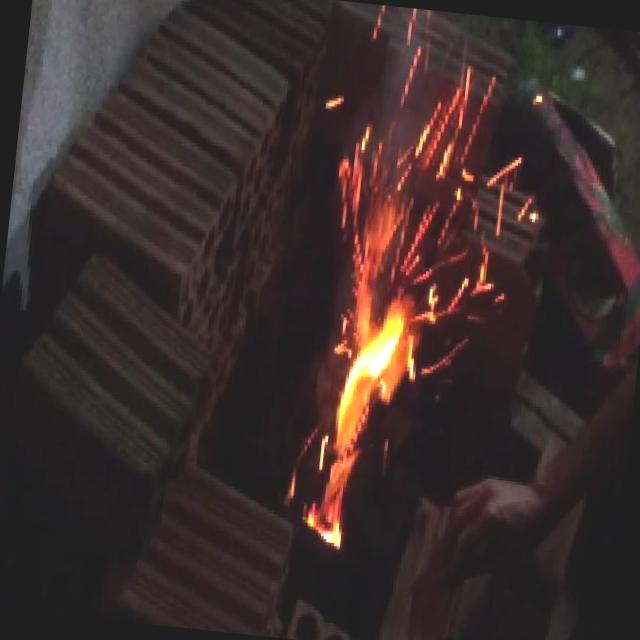fire: (252, 20, 526, 582)
